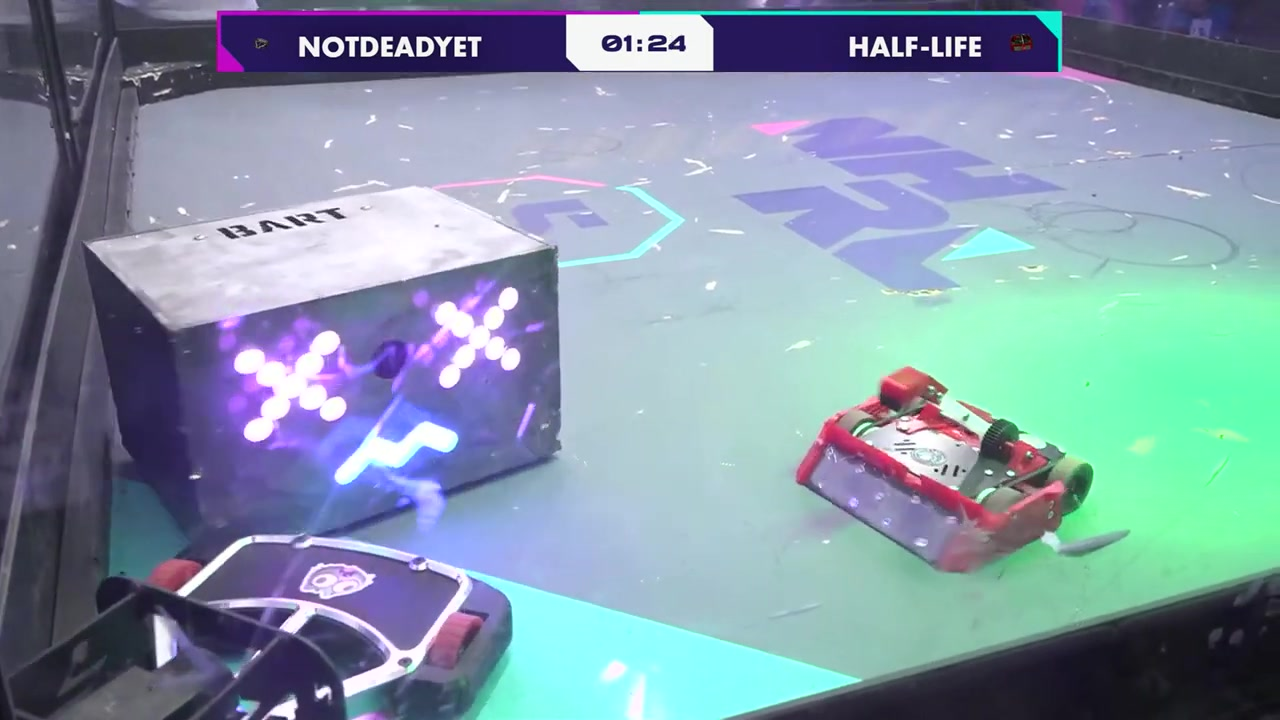combatbot: (149, 533, 510, 720), (797, 365, 1094, 576)
housebot: (82, 185, 573, 544)
